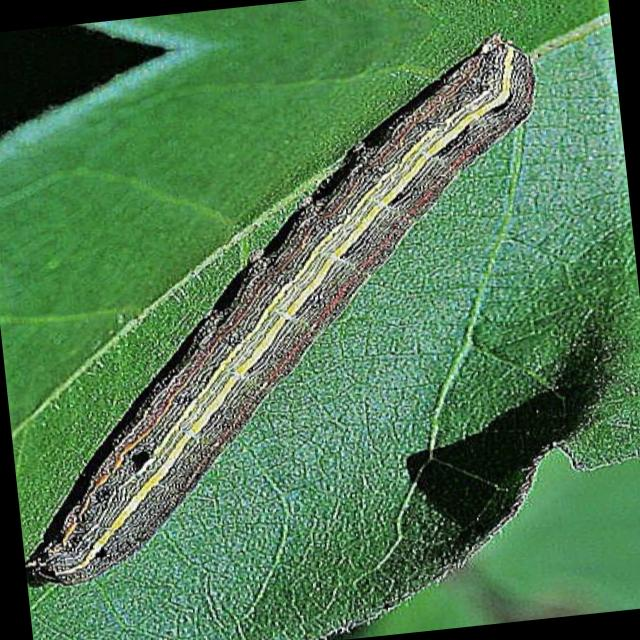Armyworm: (1, 27, 620, 594)
